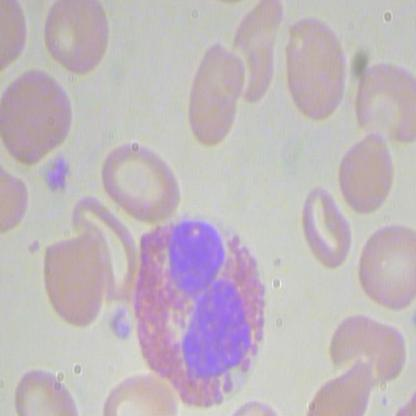Platelets: (40, 153, 75, 194), (109, 308, 134, 339)
RBC: (1, 62, 73, 170), (35, 227, 105, 334), (97, 138, 184, 224), (285, 15, 351, 127), (181, 42, 250, 149), (353, 224, 415, 315), (296, 186, 359, 273), (330, 129, 393, 216), (353, 56, 415, 143), (42, 1, 109, 81)
WBC: (131, 205, 280, 414)
